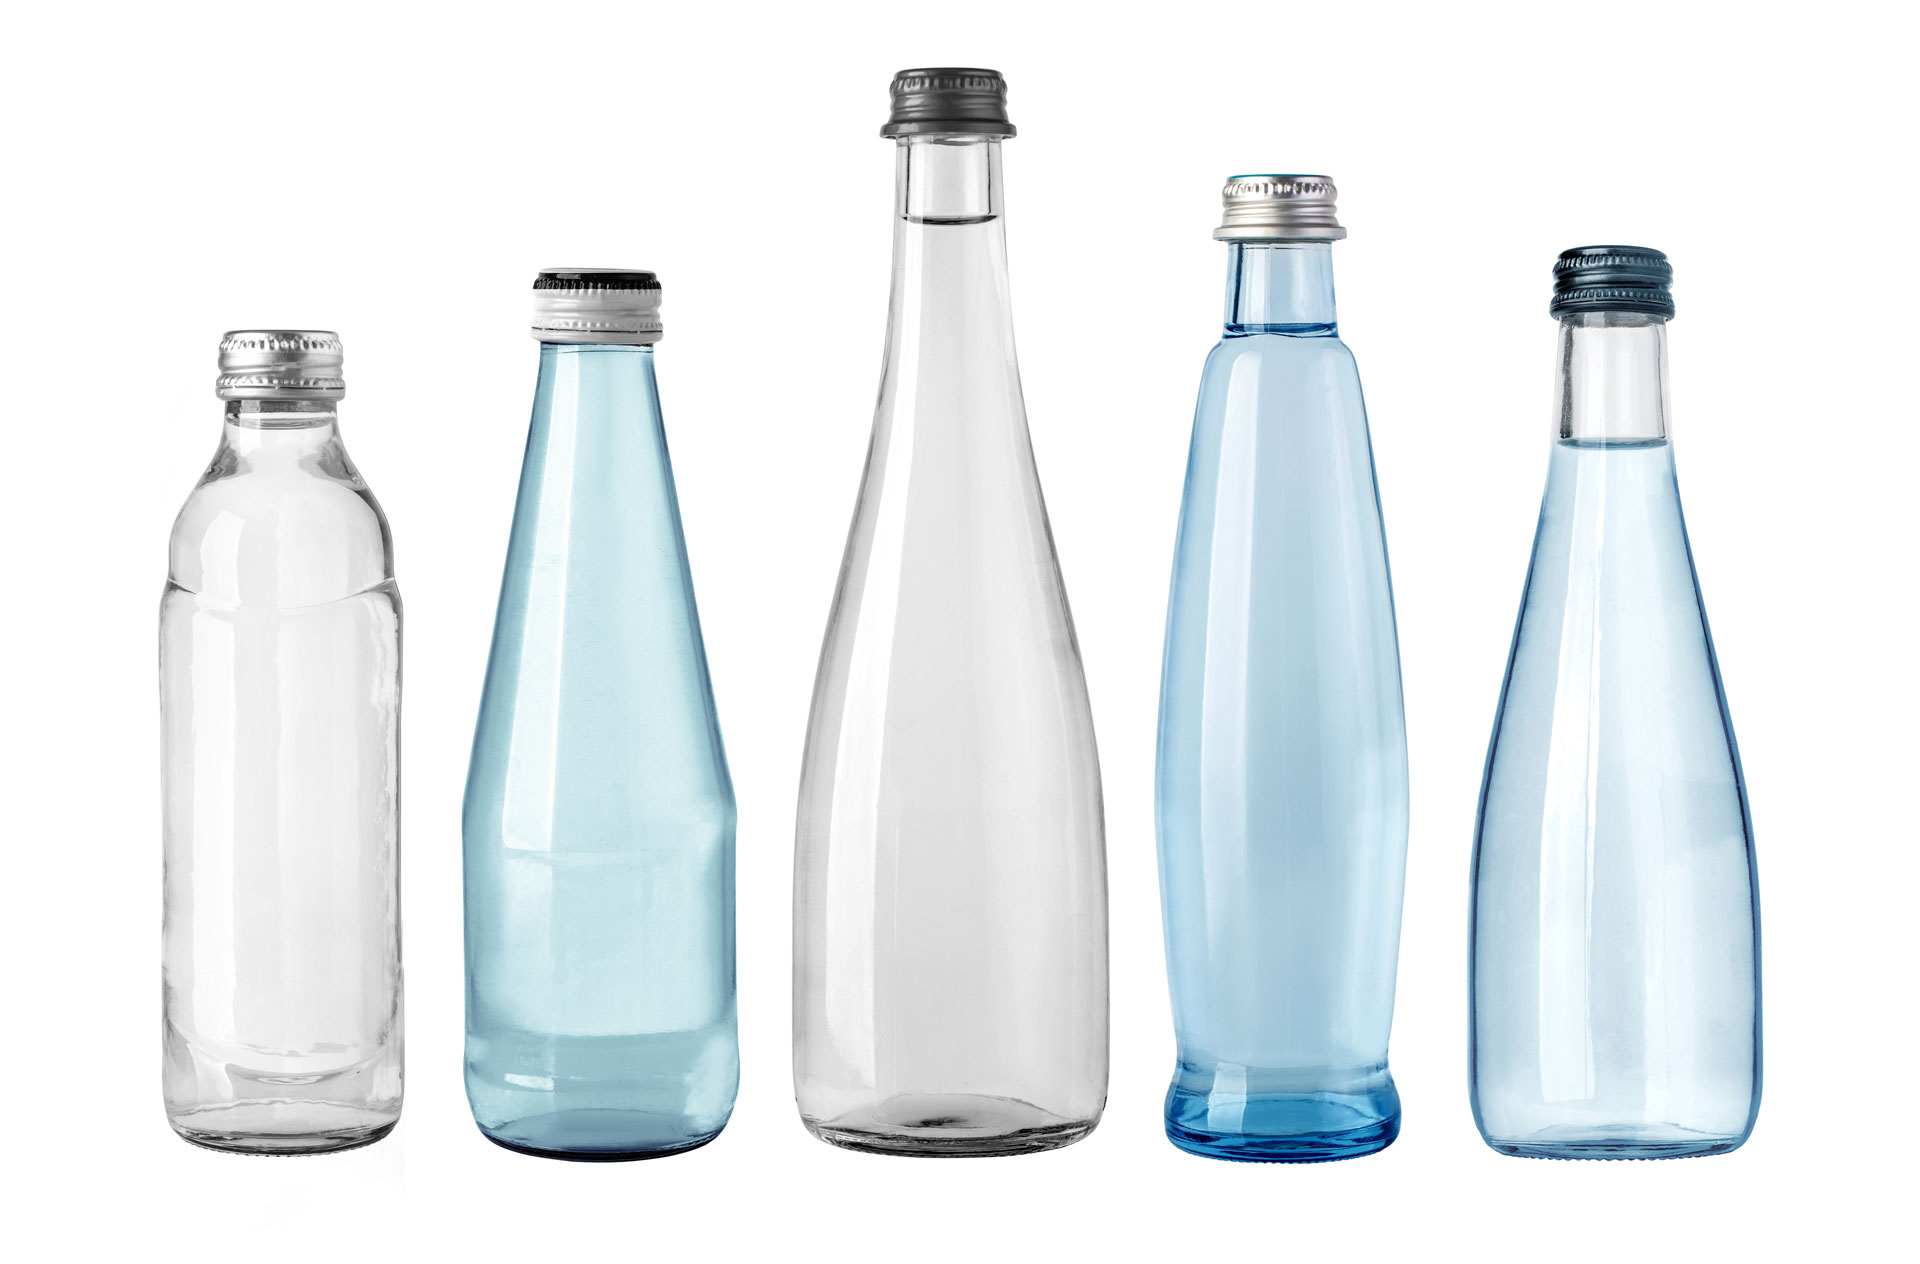glass_bottle: (783, 47, 1122, 1174), (1456, 231, 1773, 1175), (1143, 159, 1428, 1177), (449, 258, 749, 1172), (140, 315, 416, 1160)
